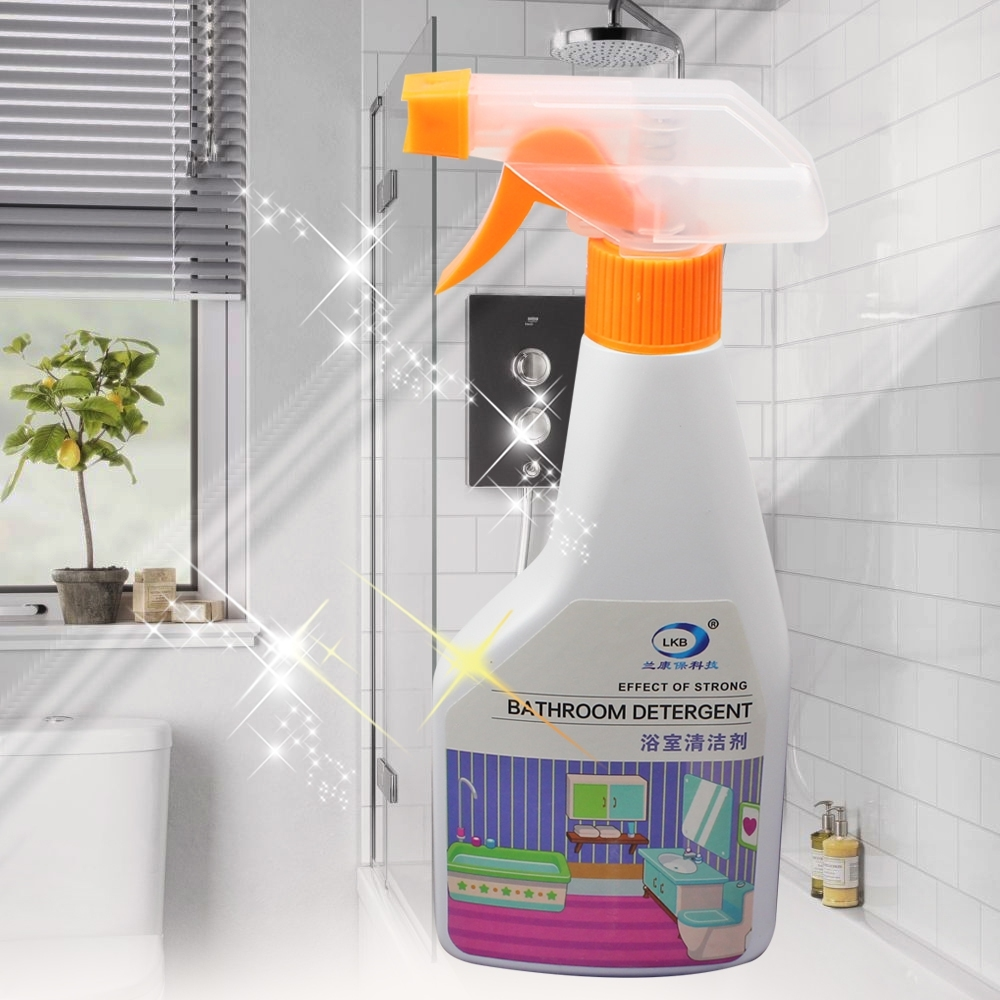Cleaning_solution: (387, 61, 838, 992)
